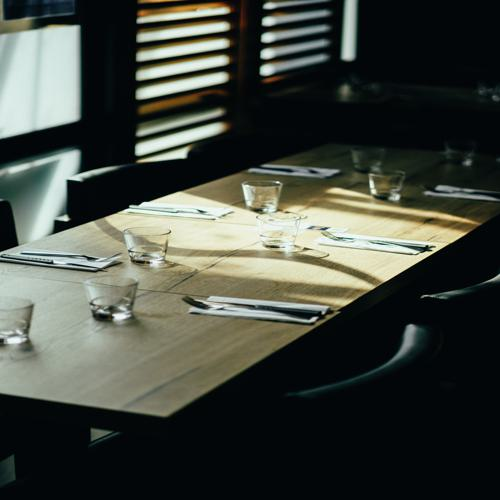vaso: (82, 272, 142, 326), (121, 223, 174, 269), (256, 212, 301, 251), (1, 297, 34, 346), (241, 178, 283, 213), (369, 164, 406, 201)
